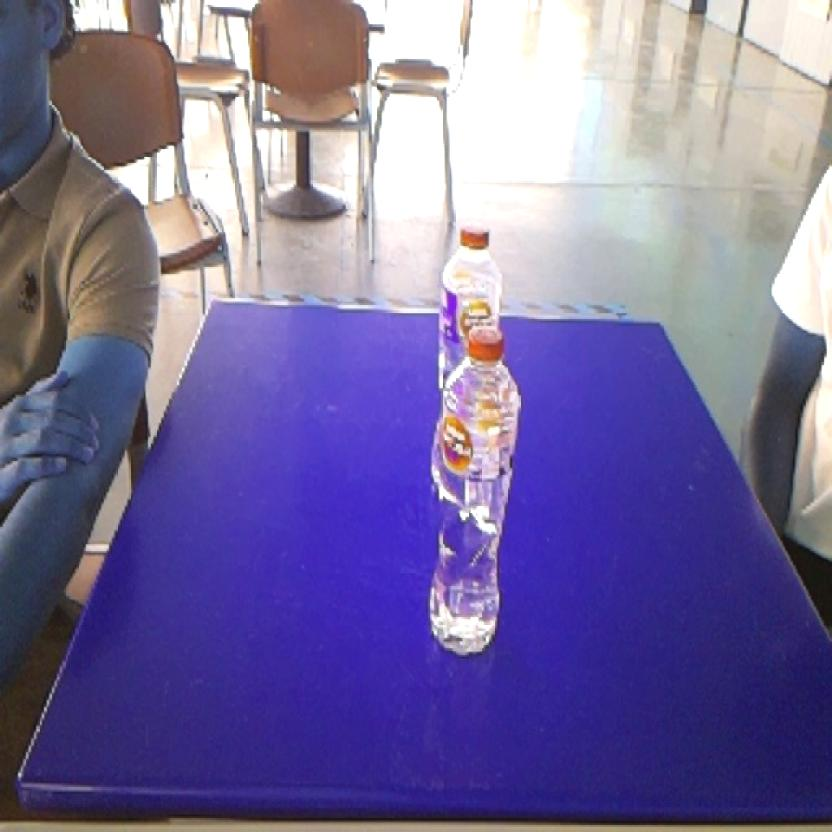good: (428, 316, 522, 670), (430, 208, 516, 332)
